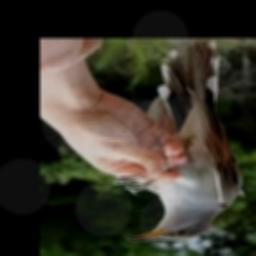Cuckoo: (118, 41, 243, 242)
